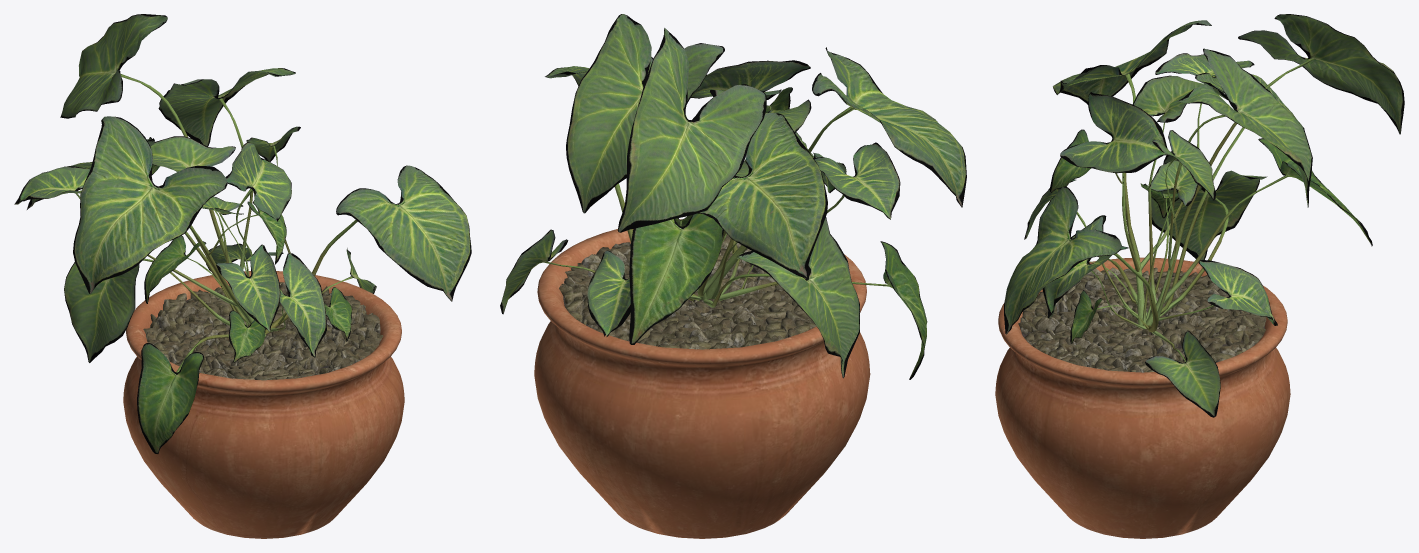
Rendered from potted_plant_02.glb.
3 renders of one model, left to right at view 1: azimuth 30°, elevation 25°; view 2: azimuth 150°, elevation 25°; view 3: azimuth 270°, elevation 25°, orthographic. The views are drawn at different scales.
Visible parts, largest first — view 1: potted_plant_02_leaves, potted_plant_02_pot, potted_plant_02_dirt; view 2: potted_plant_02_leaves, potted_plant_02_pot, potted_plant_02_dirt; view 3: potted_plant_02_leaves, potted_plant_02_pot, potted_plant_02_dirt.
Part boxes in pixels (x1=…): potted_plant_02_leaves: x1=14, y1=14, x2=471, y2=453; potted_plant_02_pot: x1=123, y1=271, x2=404, y2=538; potted_plant_02_dirt: x1=143, y1=282, x2=383, y2=380; potted_plant_02_leaves: x1=500, y1=14, x2=966, y2=379; potted_plant_02_pot: x1=534, y1=219, x2=870, y2=538; potted_plant_02_dirt: x1=559, y1=233, x2=816, y2=349; potted_plant_02_leaves: x1=1004, y1=14, x2=1404, y2=417; potted_plant_02_pot: x1=995, y1=257, x2=1290, y2=538; potted_plant_02_dirt: x1=1018, y1=267, x2=1266, y2=372.
Size of the model in its own units: 0.7009 by 0.8412 by 0.6574.
Materials: 2 (2 with a texture image).
